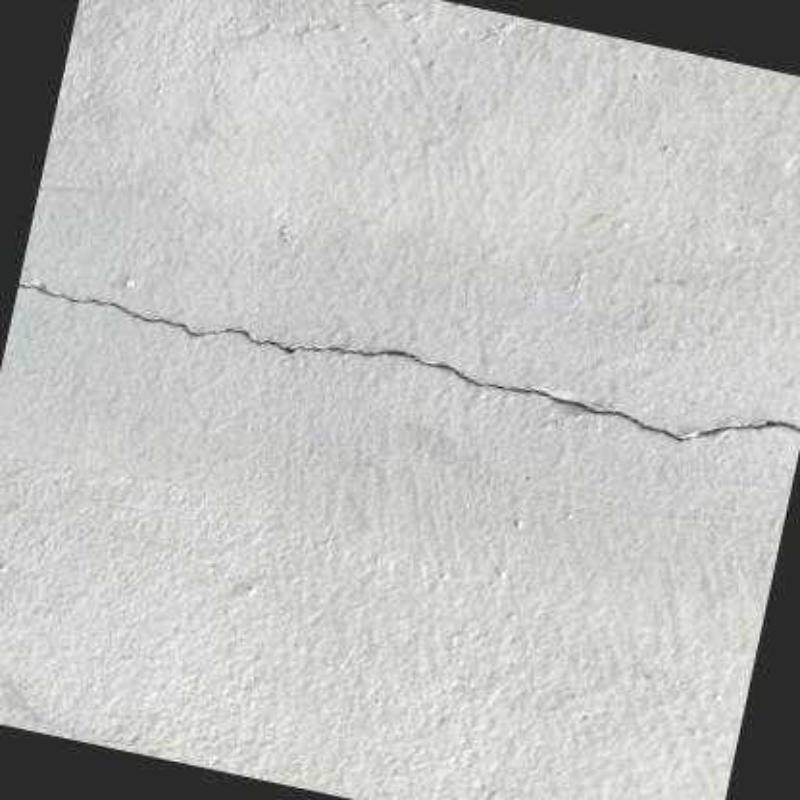pothole: (15, 281, 800, 443)
